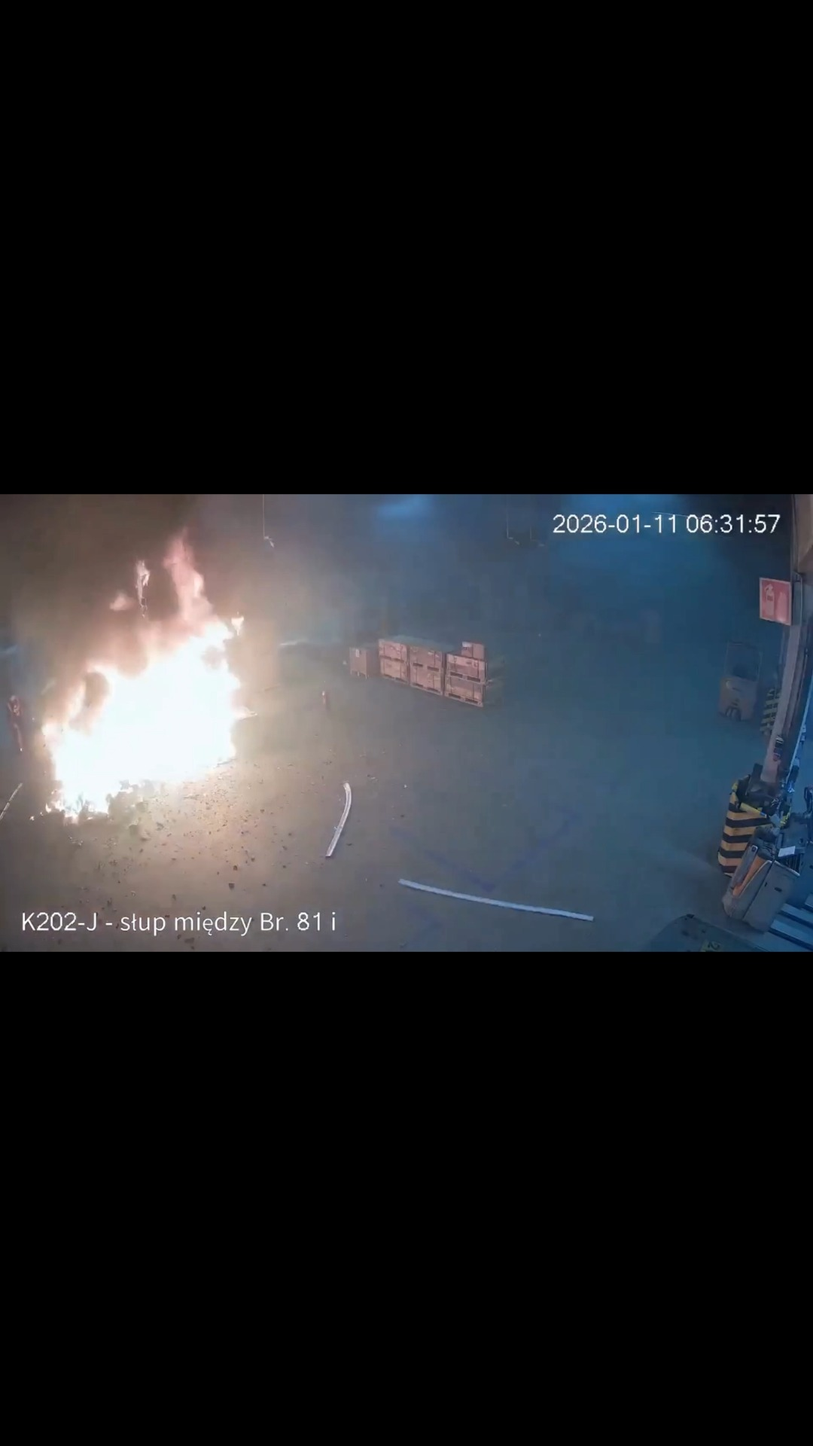fire: (40, 531, 249, 827)
smoke: (1, 495, 325, 673)
